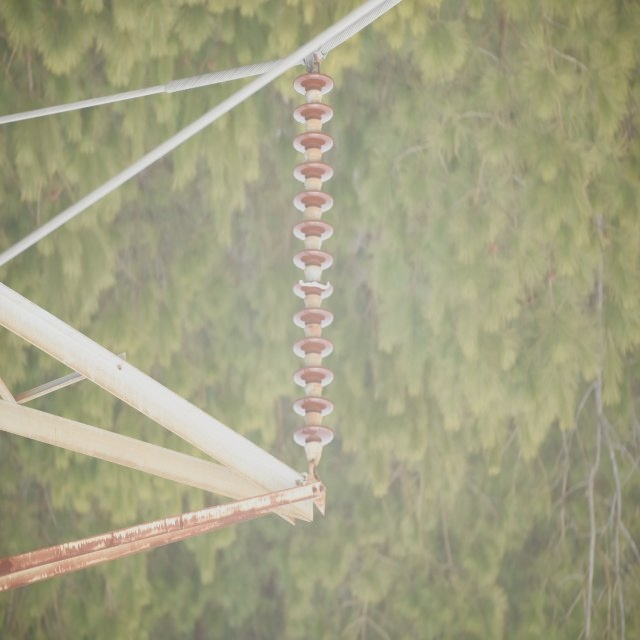broken: (298, 276, 333, 292)
insulator: (290, 75, 334, 446)
